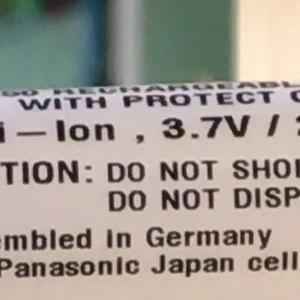3.7V: (152, 105, 260, 149)
